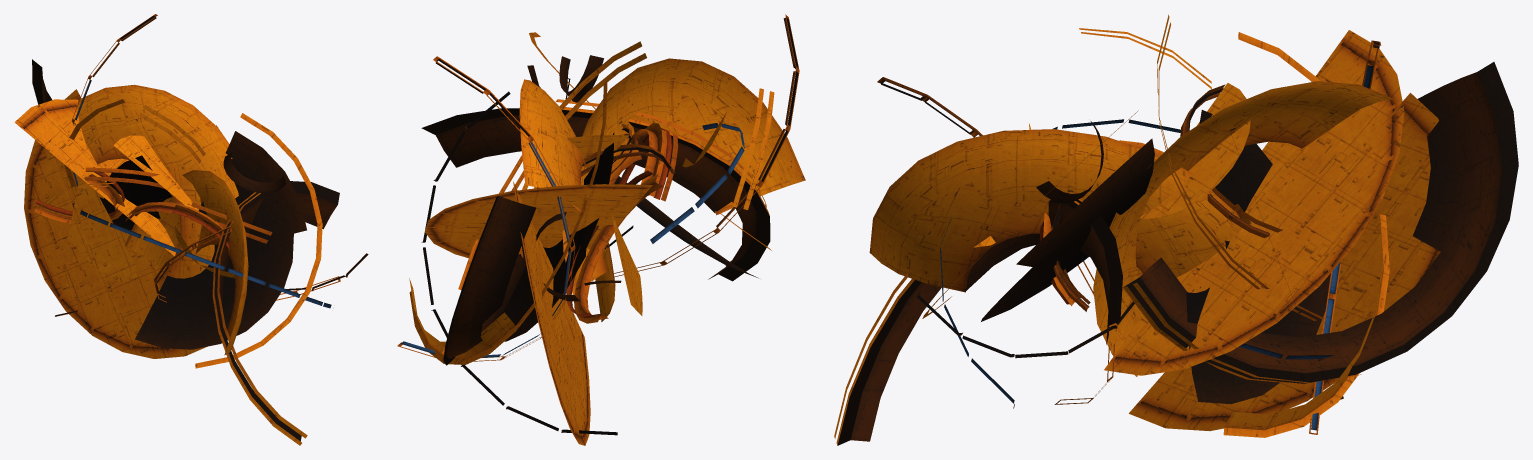
The model's file is MonsterB_Die9.obj.
3 renders of one model, left to right at view 1: azimuth 30°, elevation 25°; view 2: azimuth 150°, elevation 25°; view 3: azimuth 270°, elevation 25°, orthographic. The views are drawn at different scales.
Visible parts, largest first — view 1: Sphere001; view 2: Sphere001; view 3: Sphere001.
Part boxes in pixels (x1,y1,x2,y2): Sphere001: (14, 14, 368, 445); Sphere001: (397, 14, 805, 445); Sphere001: (834, 14, 1518, 445).
Bounding box in the file's own units: 216 × 220 × 317.
Materials: 1 (1 with a texture image).
